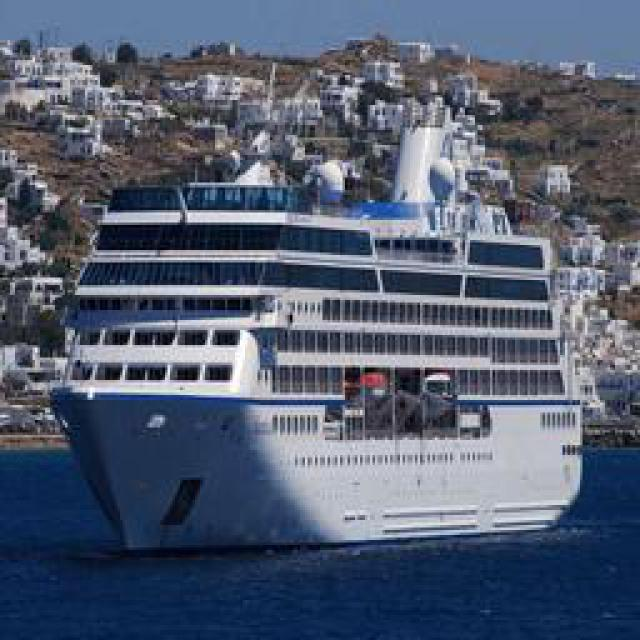Ship: (47, 102, 595, 562)
